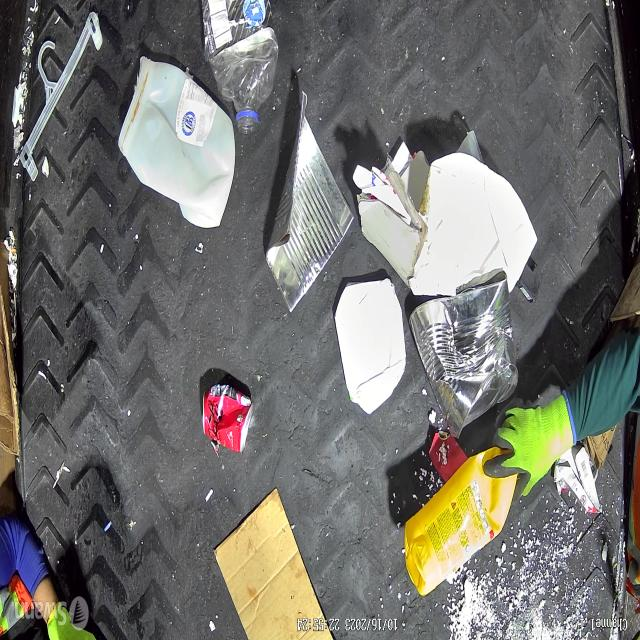can: (265, 89, 354, 313), (408, 270, 520, 442), (202, 384, 253, 455)
milk_jug: (118, 55, 236, 228)
non_white_jug: (403, 446, 518, 596)
plastic_bottle: (202, 0, 278, 134)
